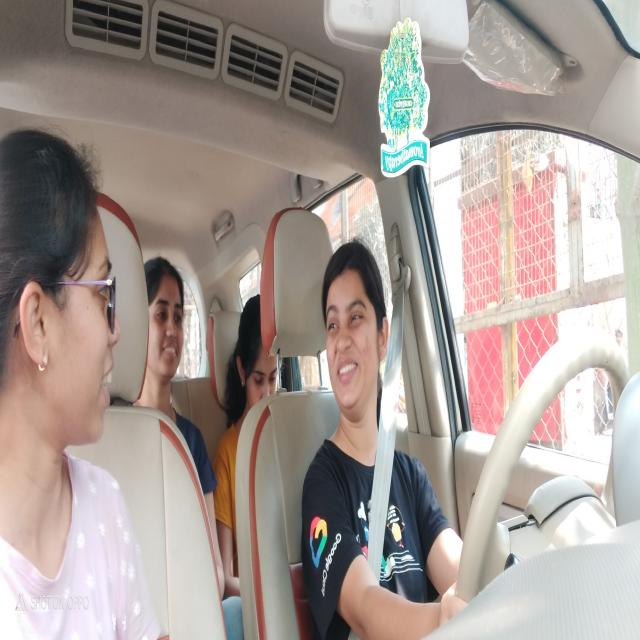LeftRight: (321, 237, 388, 421)
person: (0, 124, 118, 452), (233, 290, 280, 425), (144, 255, 187, 382)
talking: (334, 356, 361, 388), (100, 356, 116, 402)
